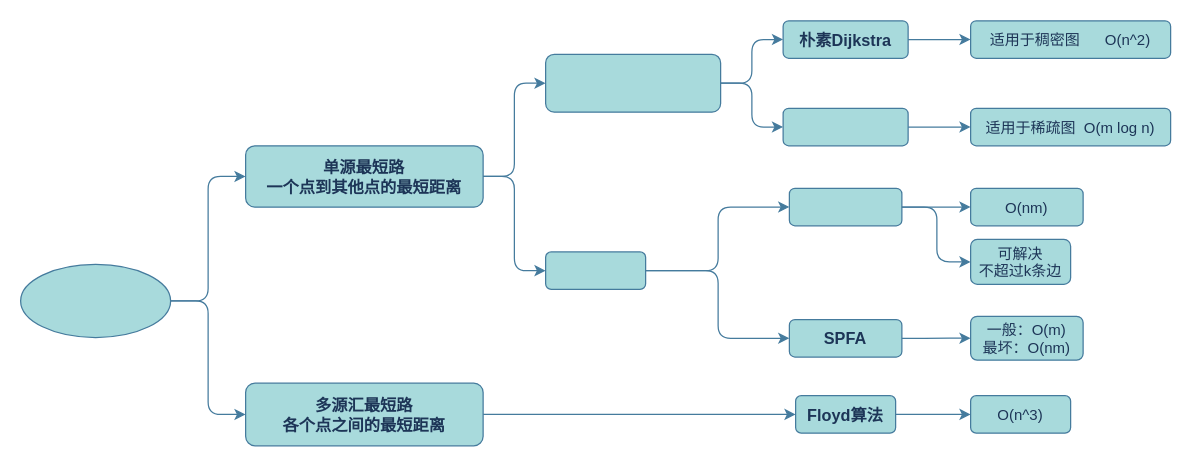
This 1191x466 diagram has some shape labels left out. The shapes that lost their labels are listed below. From the top down, each one's centre as x and y in pixels, then its label:
At (x=632, y=82): "所有边的权重都是正数 没有负权边".
At (x=845, y=126): "堆优化Dijkstra".
At (x=845, y=206): "Bellman-Ford".
At (x=595, y=270): "存在负权边".
At (x=95, y=300): "最短路问题".
